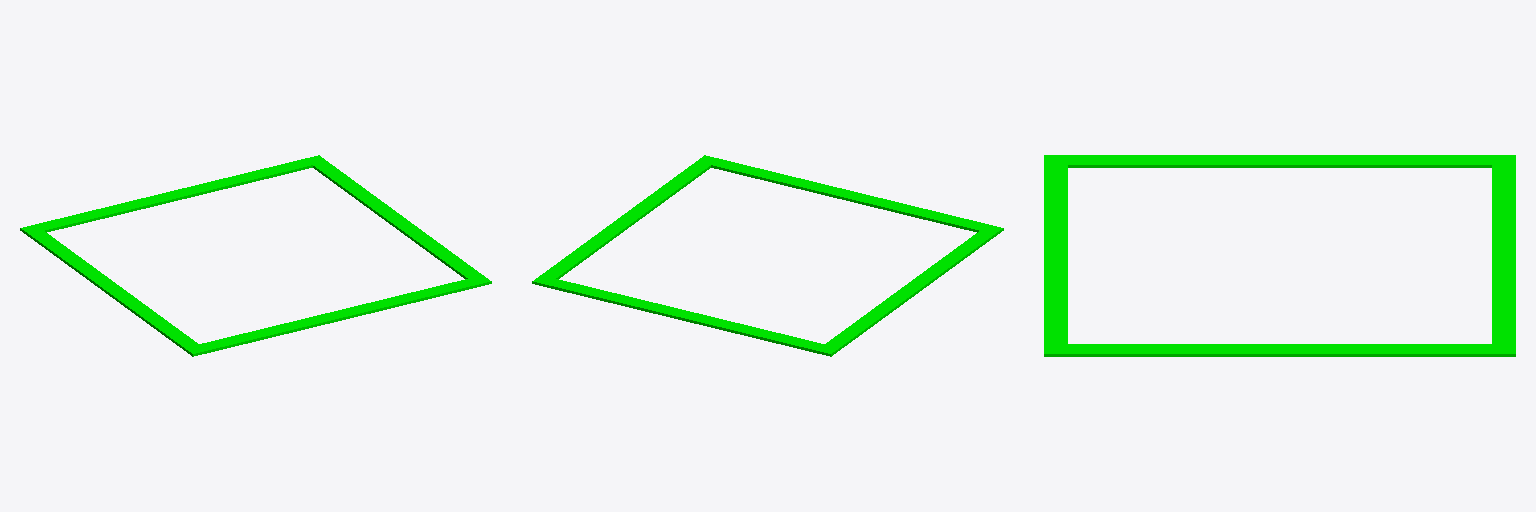
The robot description file, URDF, robot "zone.urdf":
<?xml version="1.0" ?>
<robot name="zone.urdf">
  <link name="baseLink">
    <contact>
      <lateral_friction value="1.0"/>
      <inertia_scaling value="3.0"/>
    </contact>
    <inertial>
      <origin rpy="0 0 0" xyz="-0.01 0 0.02"/>
       <mass value=".1"/>
       <inertia ixx="1" ixy="0" ixz="0" iyy="1" iyz="0" izz="1"/>
    </inertial>
    <visual>
      <origin rpy="0 0 0" xyz="0 0 0"/>
      <geometry>
				<mesh filename="zone.obj" scale="0.006 0.006 0.00005"/>
      </geometry>
      <material name="green">
        <color rgba="0 1 0 1"/>
      </material>
    </visual>
  </link>
</robot>

--- Facts derived from the render (not from the file) ---
Views: 3 orthographic renders of the robot side by side, from view 1: azimuth 30°, elevation 25°; view 2: azimuth 150°, elevation 25°; view 3: azimuth 270°, elevation 25°.
Robot: zone.urdf — 1 links, 0 joints (none); root link baseLink; default pose: all joints at 0.
Visible links, largest first — view 1: baseLink; view 2: baseLink; view 3: baseLink.
Link boxes in pixels (x1=…): baseLink: x1=20, y1=155, x2=491, y2=356; baseLink: x1=532, y1=155, x2=1003, y2=356; baseLink: x1=1044, y1=155, x2=1515, y2=356.
Size in the robot's own frame: 0.12 by 0.12 by 0.001 metres.
1 mesh visuals loaded from 1 distinct referenced files (1 OBJ).